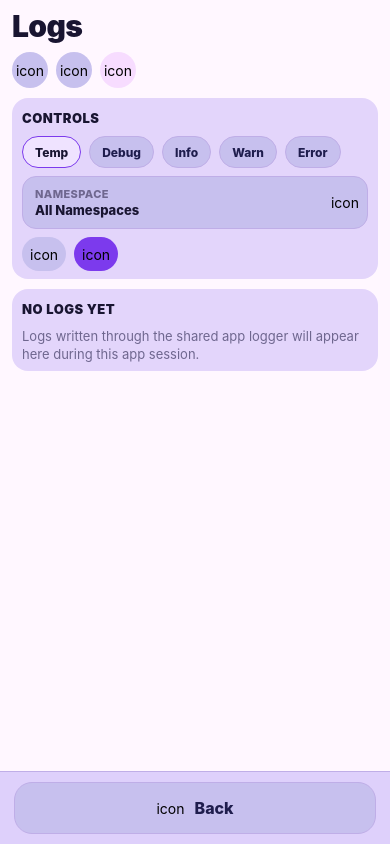
Test: LogsScreen › shows an empty namespace overlay state before any namespaced logs are buffered
Click the button with aria-label "Choose namespace filter": (72, 194) left=22, top=176, right=368, bottom=229
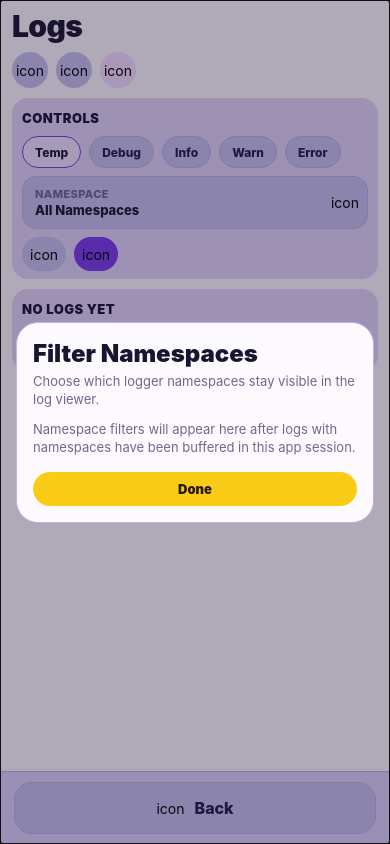
Expected: the heading "Filter Namespaces" is shown, left=33, top=338, right=258, bottom=368
Expected: the text "Namespace filters will appear here after logs with namespaces have been buffered in this app session." is shown, left=33, top=420, right=356, bottom=454
